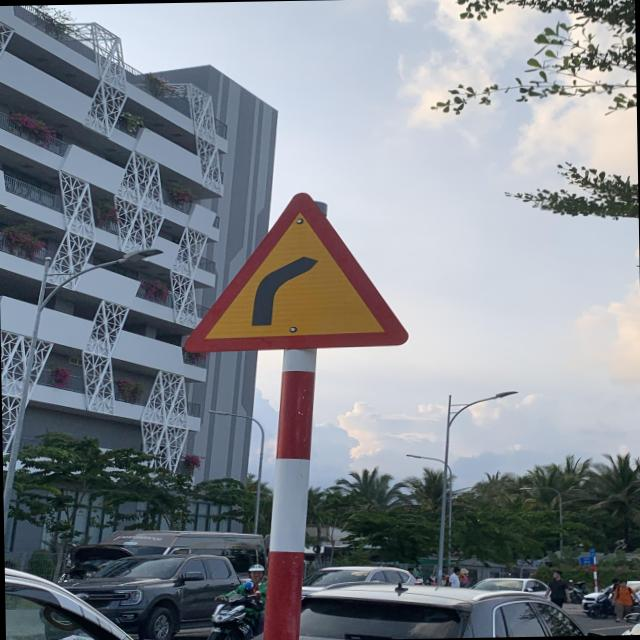Duong_Nguoi_Di_Bo_Cat_Ngang: (174, 184, 409, 353)
